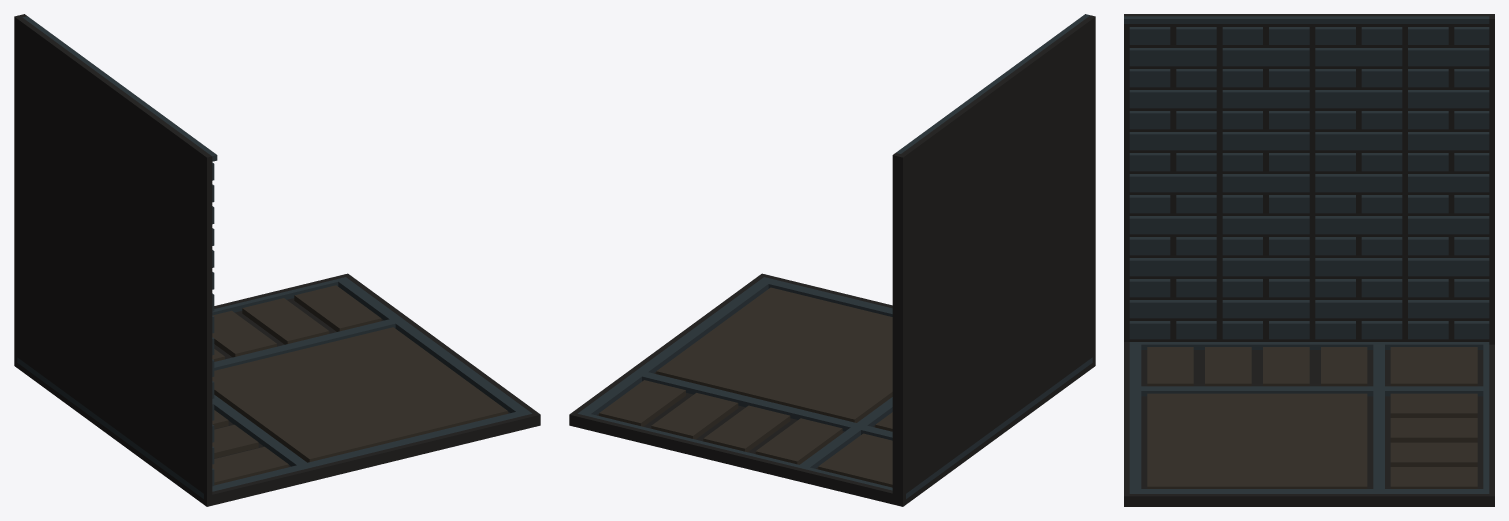
Rendered from corridor_bend_5.obj.
3 renders of one model, left to right at view 1: azimuth 30°, elevation 25°; view 2: azimuth 150°, elevation 25°; view 3: azimuth 270°, elevation 25°, orthographic. The views are drawn at different scales.
Size of the model in its own units: 6.4 by 6.4 by 6.4.
1 material, 1 textured.
